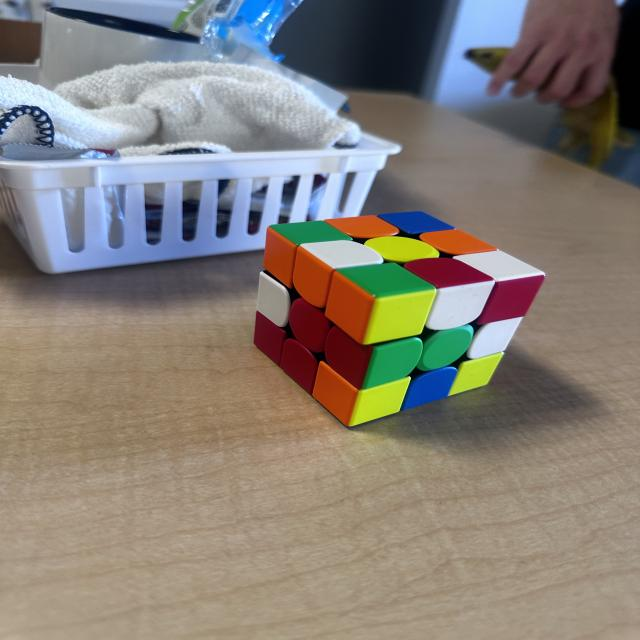sticker: (325, 262, 435, 346), (453, 250, 544, 326), (401, 258, 493, 332), (324, 324, 420, 390), (312, 362, 408, 427), (294, 240, 383, 310), (266, 223, 347, 290), (323, 326, 375, 388), (292, 246, 343, 309), (347, 376, 410, 426), (311, 362, 361, 423), (299, 239, 384, 274), (416, 323, 473, 372), (448, 351, 504, 398), (465, 316, 524, 360), (288, 296, 332, 354), (401, 366, 456, 411), (280, 338, 320, 395), (255, 268, 292, 328), (417, 228, 496, 256), (262, 227, 298, 288), (365, 236, 439, 264), (379, 210, 453, 236), (254, 310, 288, 366), (324, 214, 400, 238)
